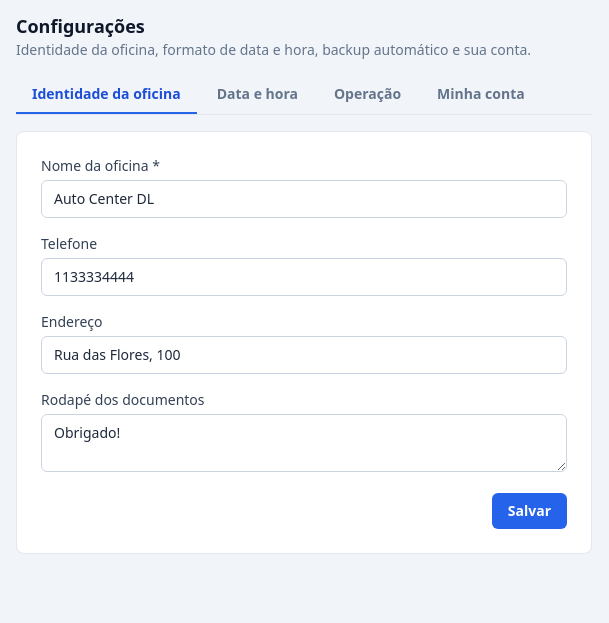
Scenario: SettingsPage identity tab (Bloco F2 mínimo) › submits edited values
Replace the text in the field labelled "Nome da oficina *" with "Oficina Nova" at (304, 199), box [41,180,567,218]
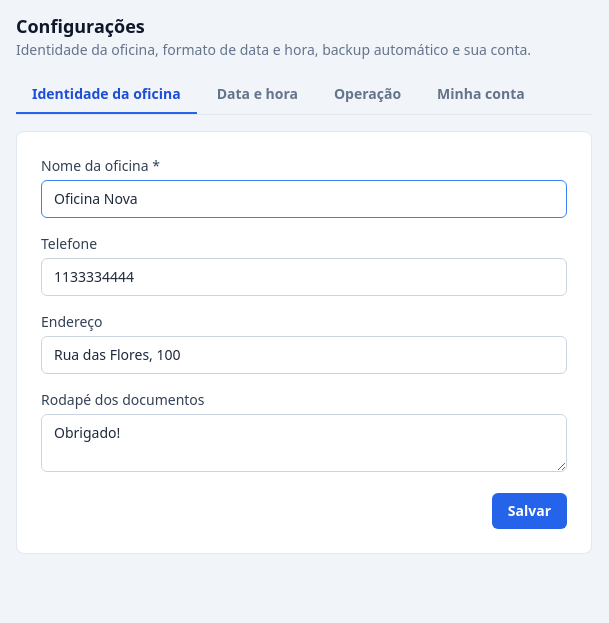
Click the button "Salvar" at (529, 511), box [492,493,567,529]
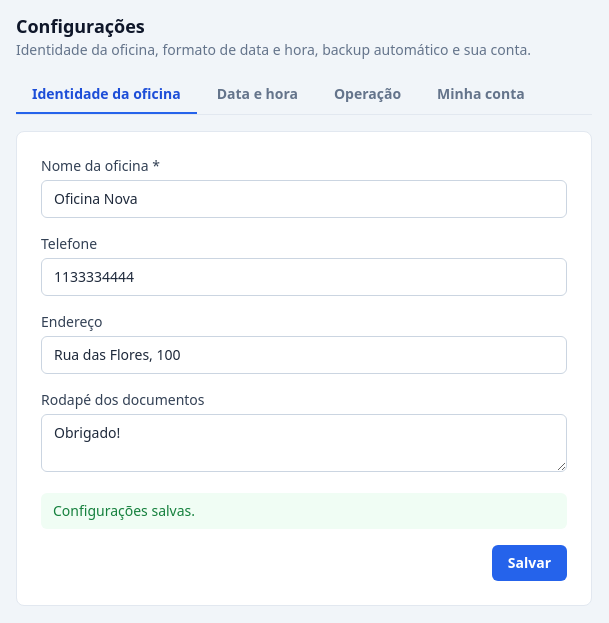
Expected: the text "Configurações salvas." is shown, [41,493,567,529]
